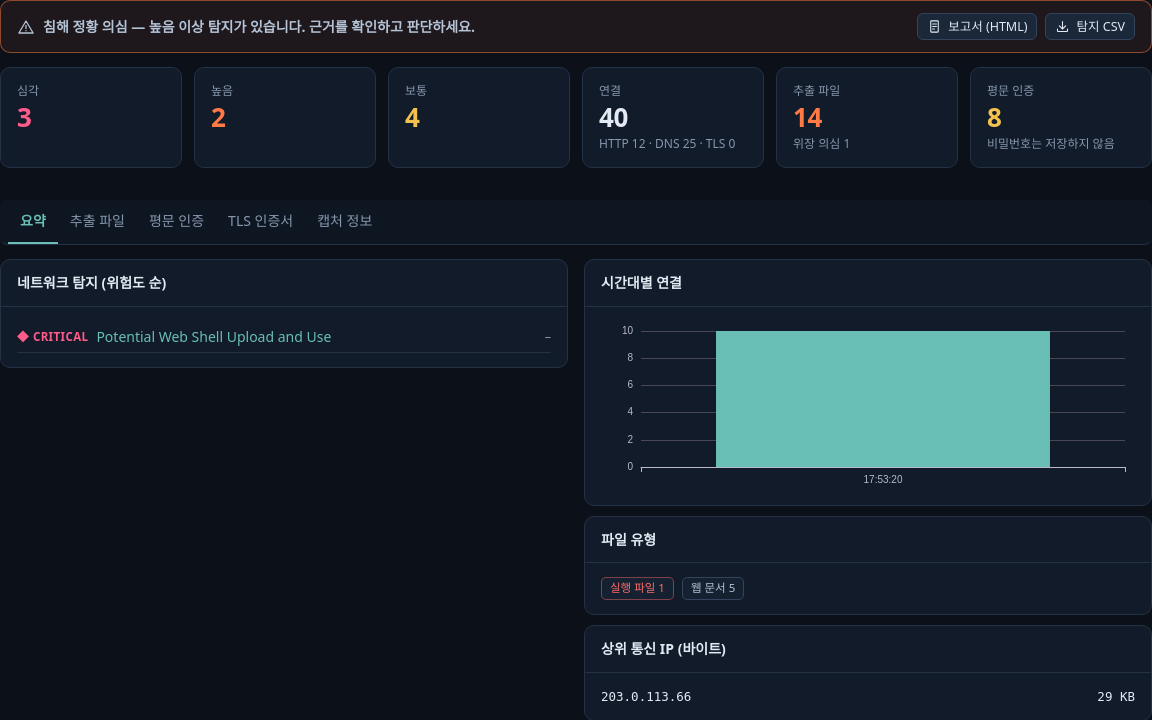
PCAP forensics tab › shows cleartext authentications without any password value
This screenshot has width=1152, height=720.
Click the tab "평문 인증". click: click(176, 222)
box: [137,200,216,244]
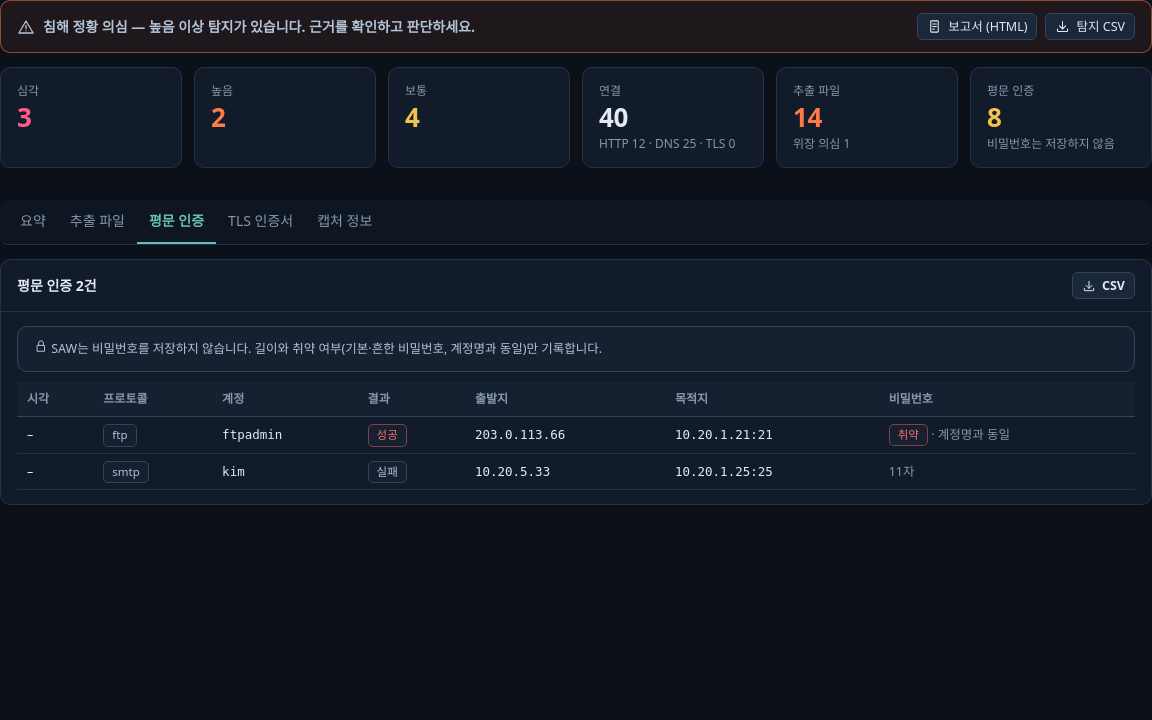
Check: the text "성공" is shown, box [368,424,407,447]
Check: the text "취약" is shown, box [889,424,928,446]
Check: the text "· 계정명과 동일" is shown, box [928,426,1010,443]
